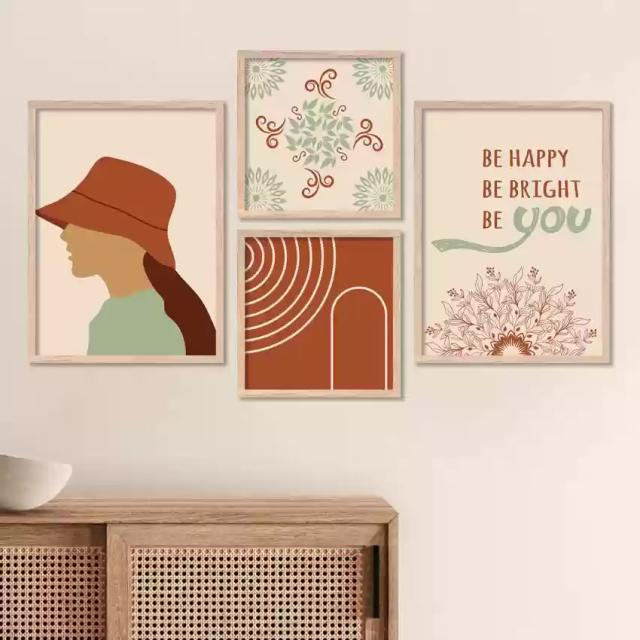painting: (27, 99, 226, 366), (415, 101, 614, 368), (238, 50, 404, 219), (238, 231, 404, 400)
